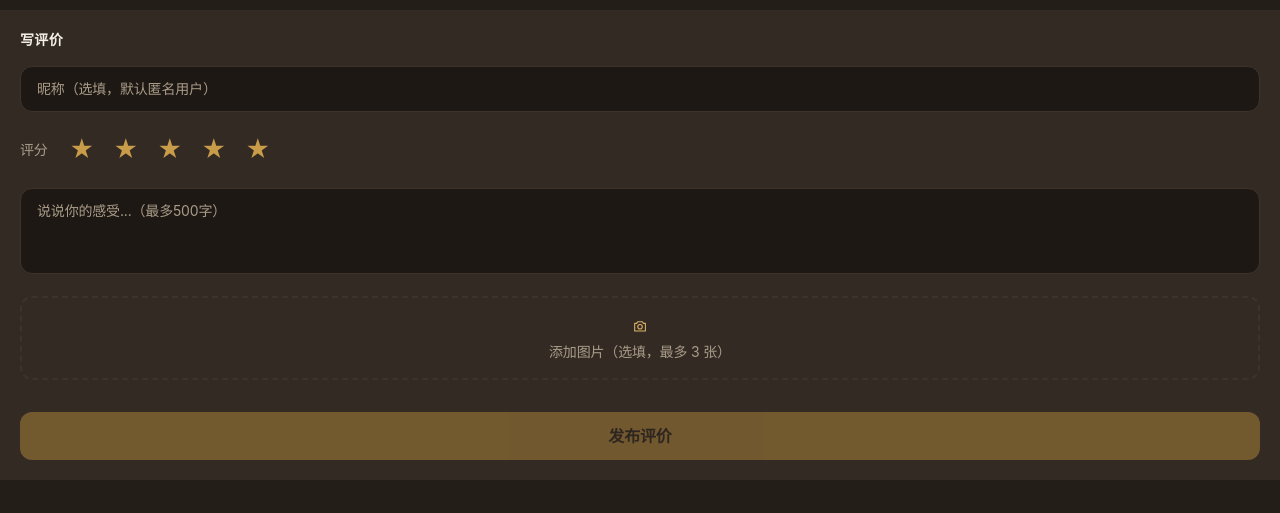
Test case: 提交校验 › 成功后清空正文/昵称/评分并回调父级刷新
The width and height of the screenshot is (1280, 513).
Step 1. Type "小李" into the field labelled "昵称（选填，默认匿名用户）" → (640, 89), box x1=20 y1=66 x2=1260 y2=112
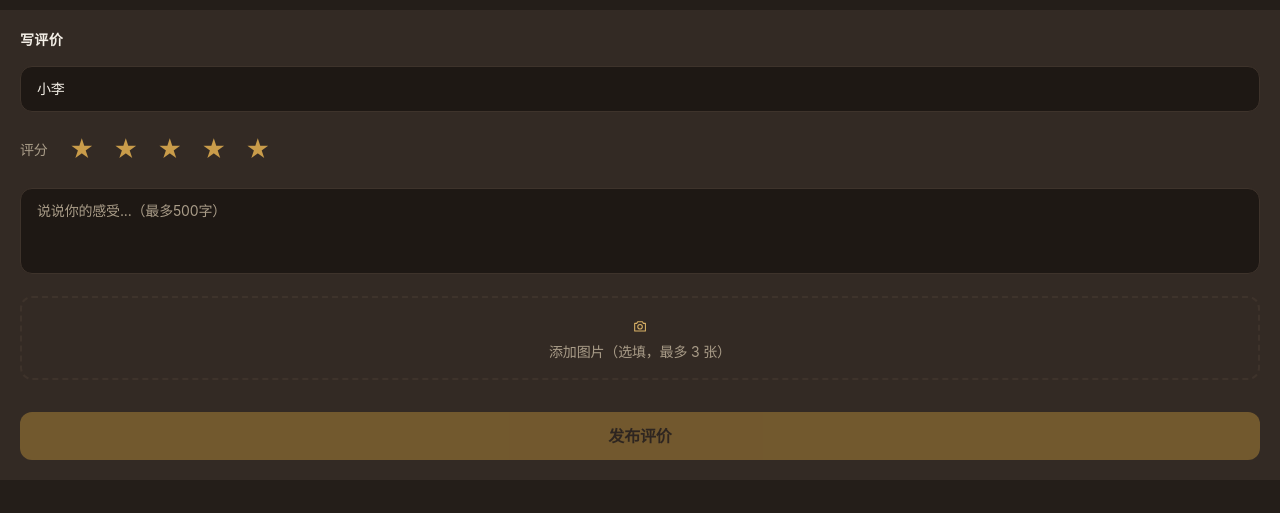
Step 2. Type "很好" into the text box named "评价内容（最多 500 字）" → (640, 231), box x1=20 y1=188 x2=1260 y2=274
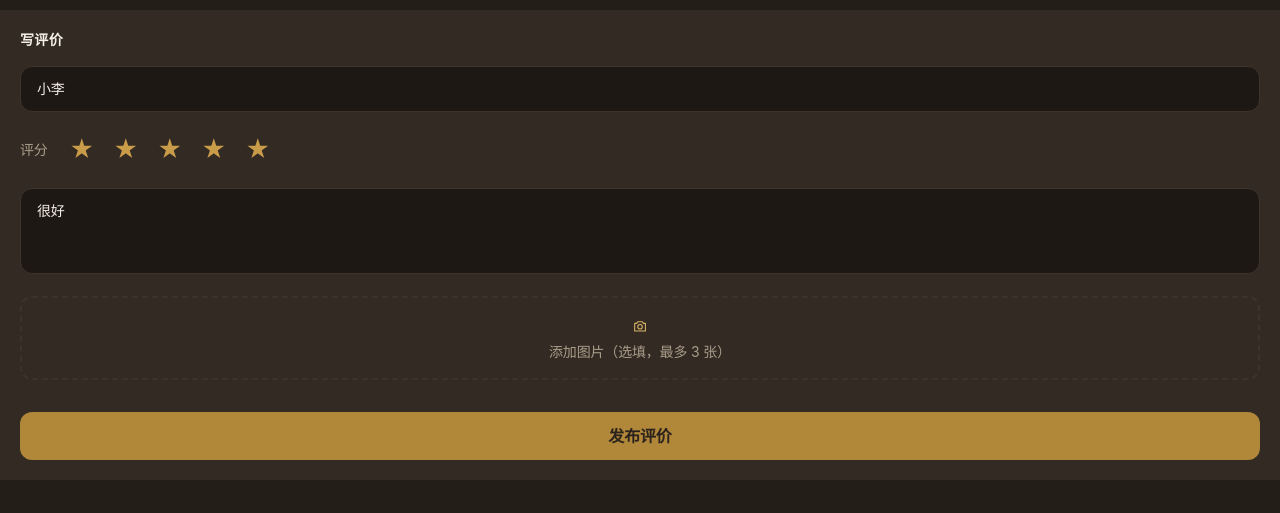
Step 3. Click the button "发布评价" → (640, 436), box x1=20 y1=412 x2=1260 y2=460
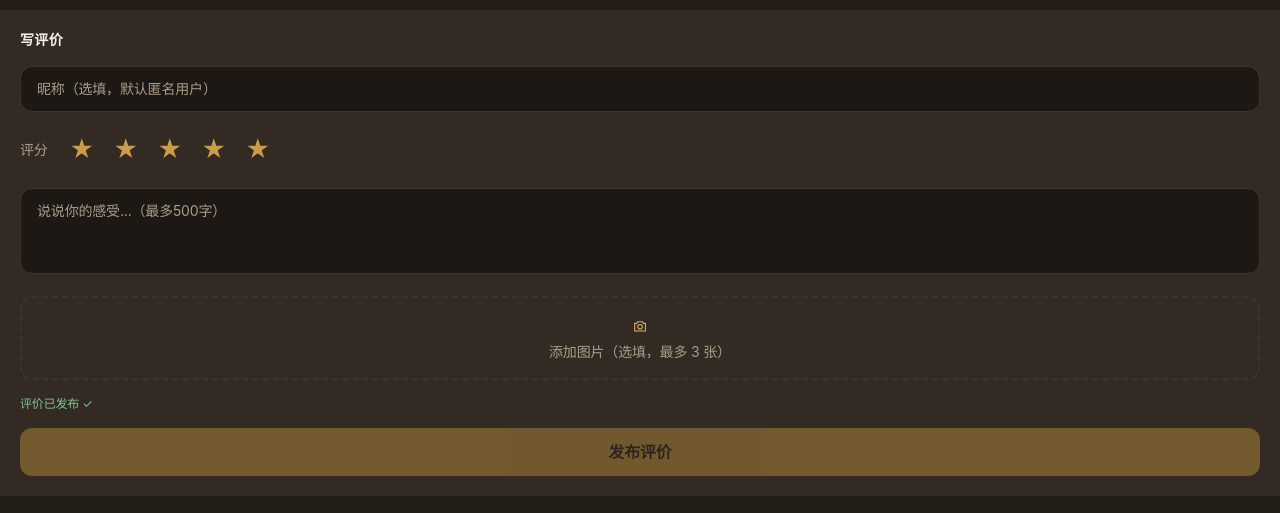
Result: the message shows "评价已发布" at x1=20 y1=396 x2=93 y2=411
Result: the text box named "评价内容（最多 500 字）" is empty at x1=20 y1=188 x2=1260 y2=274
Result: the field labelled "昵称（选填，默认匿名用户）" is empty at x1=20 y1=66 x2=1260 y2=112
